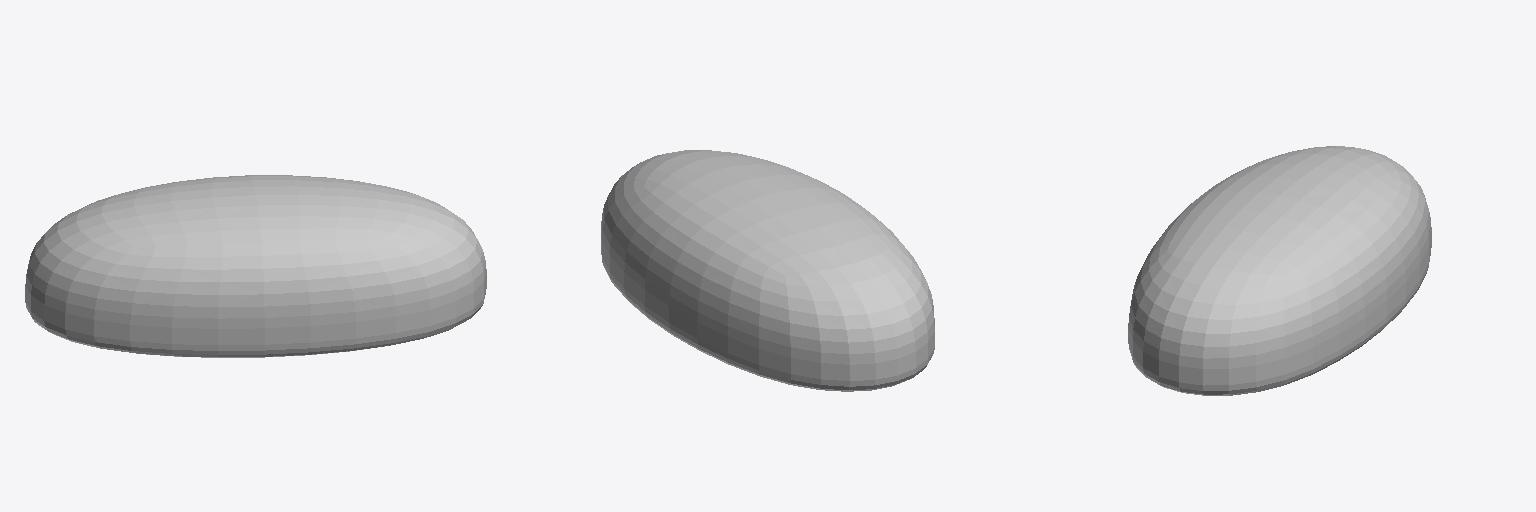
File: left_feet.obj
The picture shows the model from 3 angles: view 1: azimuth 30°, elevation 25°; view 2: azimuth 150°, elevation 25°; view 3: azimuth 270°, elevation 25°; orthographic projection.
Parts seen in each view (by area): view 1: Cube.002_Cube.005; view 2: Cube.002_Cube.005; view 3: Cube.002_Cube.005.
Boxes of the visible parts, x1,y1,x2,y2 form: Cube.002_Cube.005: [25, 175, 486, 357]; Cube.002_Cube.005: [601, 150, 934, 391]; Cube.002_Cube.005: [1128, 146, 1431, 395].
Bounding box in the file's own units: 1.43 × 0.4464 × 1.01.